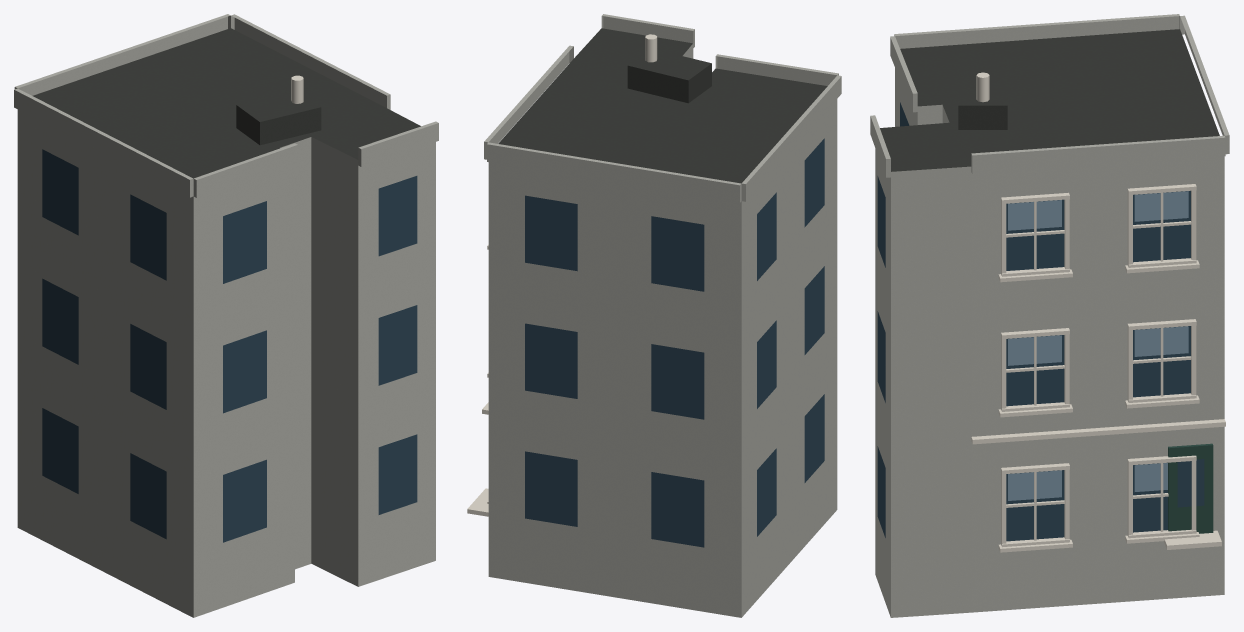
3 renders of one model, left to right at view 1: azimuth 30°, elevation 25°; view 2: azimuth 150°, elevation 25°; view 3: azimuth 270°, elevation 25°, orthographic. The views are drawn at different scales.
Visible parts, largest first — view 1: Footprint 0 / surface 2, Inset glazing, Footprint 0 / surface 1, Facade bay volumes, Inferred rooftop service enclosure / surface 5, Inferred rooftop service enclosure / surface 3, Inferred rooftop service enclosure / surface 2; view 2: Footprint 0 / surface 2, Inset glazing, Footprint 0 / surface 1, Facade bay volumes, Inferred rooftop service enclosure / surface 6, Inferred rooftop service enclosure / surface 3, Inferred rooftop service enclosure / surface 2; view 3: Footprint 0 / surface 2, Footprint 0 / surface 1, Cornices and window frames, Inset glazing, Facade bay volumes, Sky reflection panels, Storefronts and doors, Inferred rooftop service enclosure / surface 3, Inferred rooftop service enclosure / surface 1.
Boxes of the visible parts, x1,y1,x2,y2 form: Footprint 0 / surface 2: [17, 109, 435, 617]; Inset glazing: [42, 149, 417, 542]; Footprint 0 / surface 1: [33, 28, 420, 178]; Facade bay volumes: [14, 14, 438, 197]; Inferred rooftop service enclosure / surface 5: [260, 107, 321, 145]; Inferred rooftop service enclosure / surface 3: [236, 91, 320, 121]; Inferred rooftop service enclosure / surface 2: [236, 105, 259, 144]; Footprint 0 / surface 2: [488, 43, 837, 617]; Inset glazing: [525, 138, 824, 547]; Footprint 0 / surface 1: [498, 28, 827, 183]; Facade bay volumes: [484, 14, 841, 202]; Inferred rooftop service enclosure / surface 6: [627, 65, 688, 103]; Inferred rooftop service enclosure / surface 3: [628, 50, 711, 80]; Inferred rooftop service enclosure / surface 2: [688, 63, 711, 102]; Footprint 0 / surface 2: [875, 68, 1224, 617]; Footprint 0 / surface 1: [880, 29, 1219, 171]; Cornices and window frames: [971, 184, 1225, 552]; Inset glazing: [877, 102, 1204, 541]; Facade bay volumes: [870, 14, 1229, 177]; Sky reflection panels: [1008, 191, 1188, 500]; Storefronts and doors: [1168, 443, 1213, 533]; Inferred rooftop service enclosure / surface 3: [958, 74, 1007, 105]; Inferred rooftop service enclosure / surface 1: [958, 105, 1007, 129].
Size of the model in its own units: 8.33 by 13.25 by 8.72.
